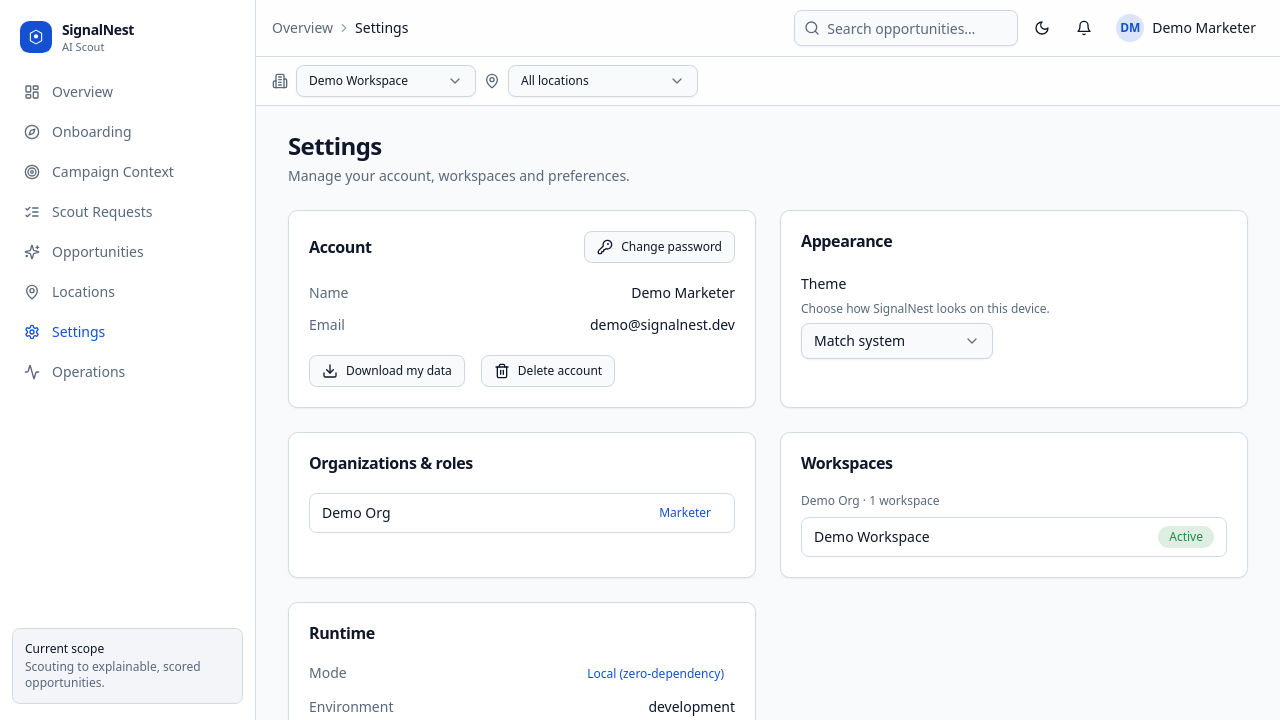
Test: account deletion › refuses to send without the typed confirmation
Click the button "Delete account" at (548, 371), box [481, 355, 615, 387]
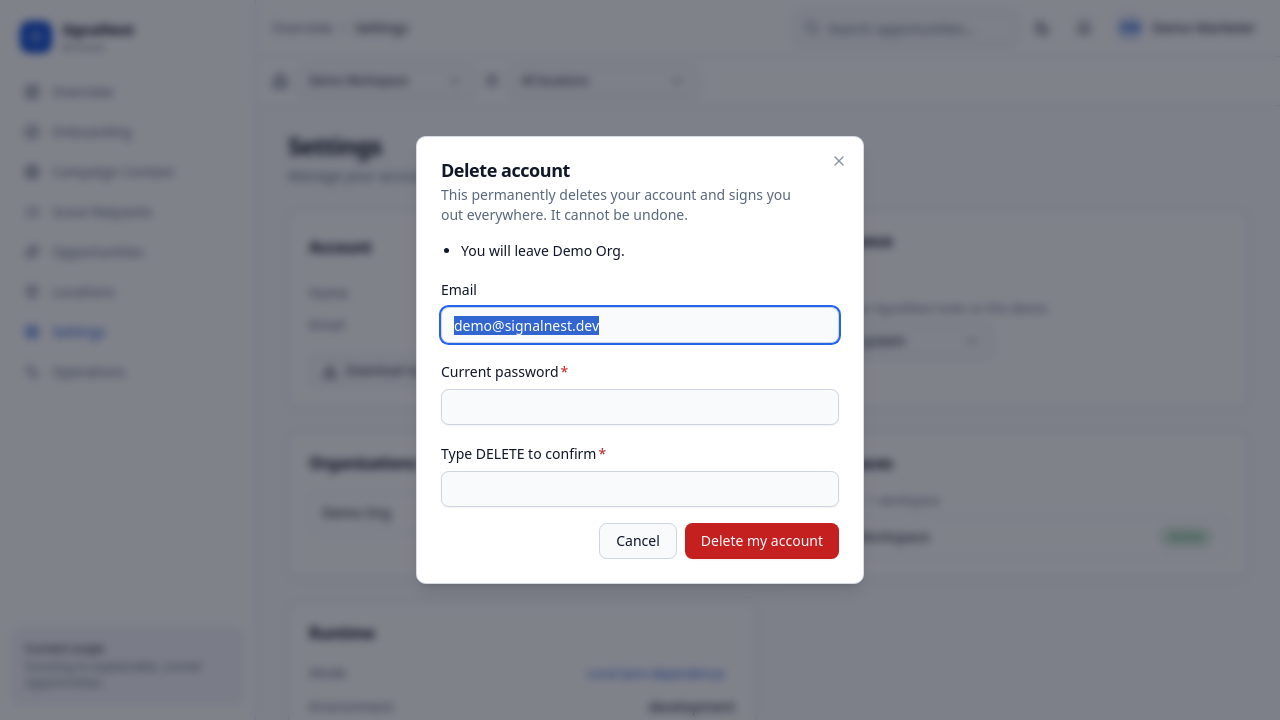
Expected: the list item "You will leave Demo Org." is shown, [461, 241, 625, 260]
Type "my password 1" into the password field labelled "Current password*" at (640, 407), box [441, 389, 839, 425]
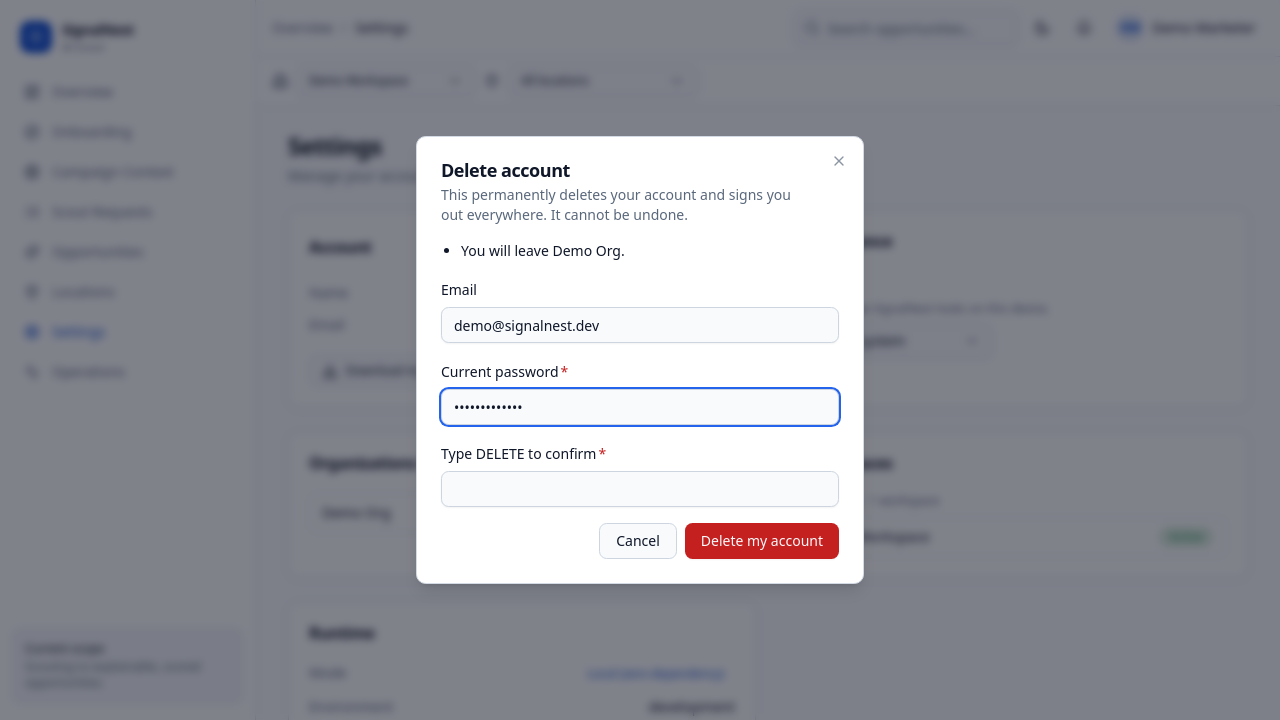
Type "delete" into the field labelled "Type DELETE to confirm*" at (640, 489), box [441, 471, 839, 507]
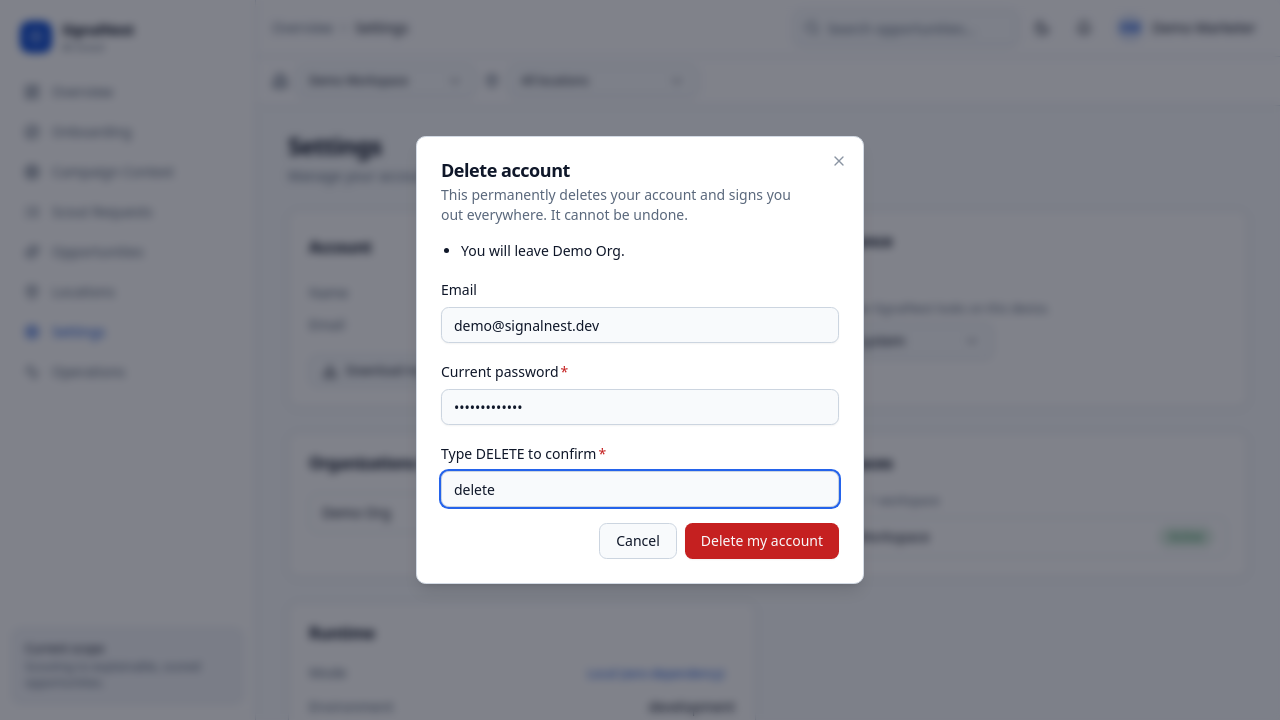
Click the button "Delete my account" at (762, 541), box [685, 523, 839, 559]
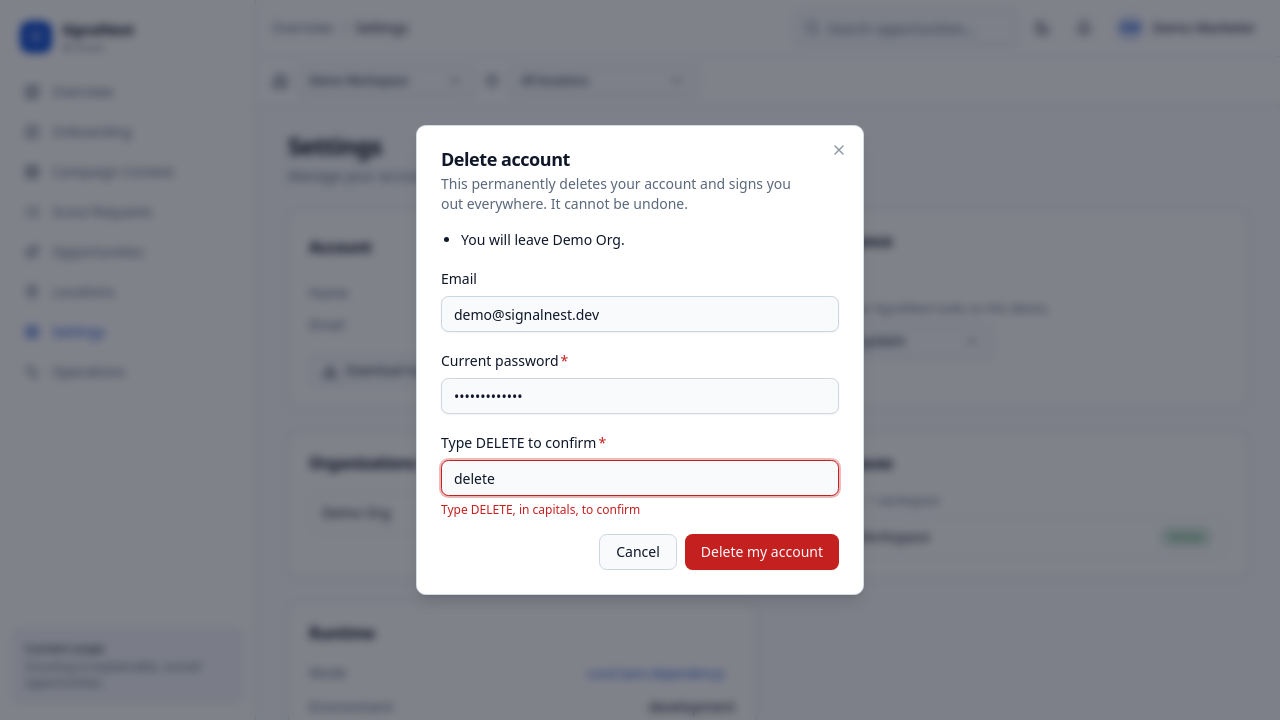
Expected: the text "Type DELETE, in capitals, to confirm" is shown, [441, 501, 640, 518]
